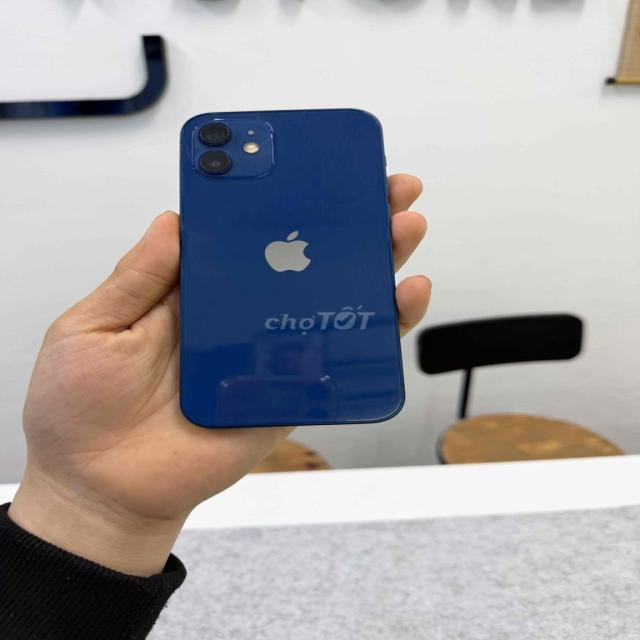gen_12_13: (178, 108, 410, 430)
